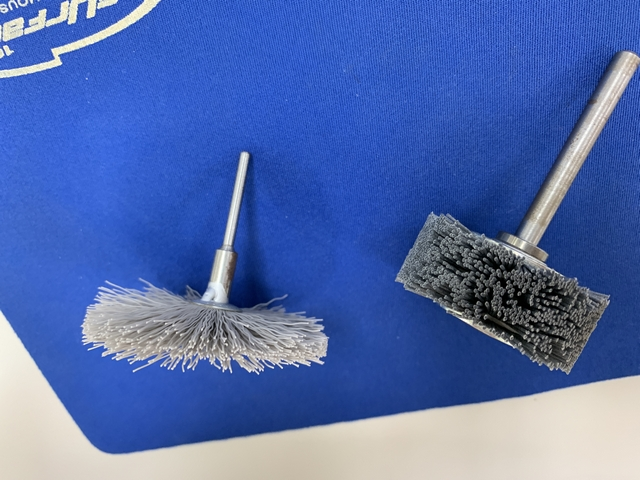TOOL: (76, 140, 336, 378)
Wheel Brush: (387, 36, 638, 383)
